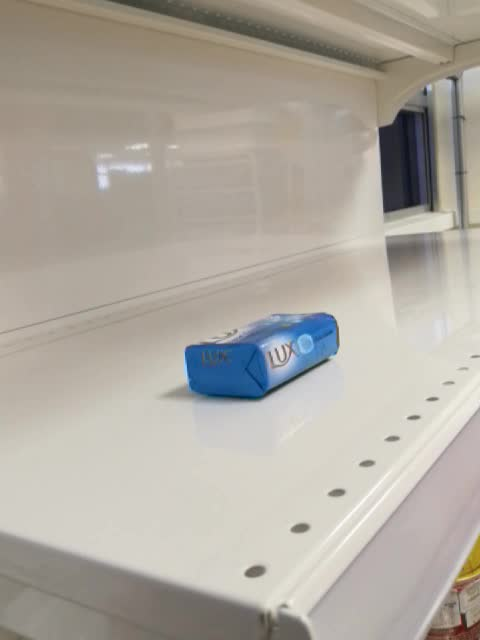soap: (184, 312, 340, 400)
